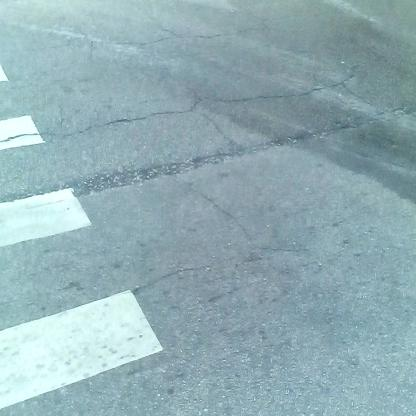crosswalk: (1, 72, 160, 387)
